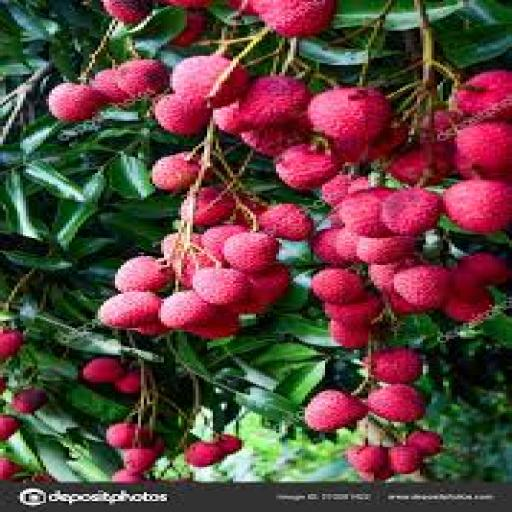lychee: (308, 87, 391, 158), (173, 55, 247, 108), (239, 76, 310, 131), (443, 179, 511, 234), (455, 123, 511, 180), (251, 0, 336, 37), (380, 188, 442, 236), (277, 145, 339, 191), (455, 71, 511, 120), (340, 188, 394, 237), (305, 390, 368, 432), (395, 266, 451, 308), (156, 94, 209, 137), (49, 83, 106, 122), (98, 293, 161, 328), (366, 384, 425, 421), (162, 291, 218, 329), (193, 269, 250, 306), (225, 233, 279, 272), (182, 188, 235, 227), (150, 152, 201, 192), (116, 256, 172, 292), (259, 204, 313, 241), (118, 60, 169, 99), (366, 348, 422, 383), (311, 269, 365, 304), (357, 237, 414, 265), (328, 320, 371, 349), (346, 446, 388, 474), (101, 0, 152, 23), (81, 357, 123, 383), (185, 442, 224, 466), (12, 388, 48, 414), (389, 446, 422, 474), (406, 431, 442, 456), (0, 330, 23, 360), (0, 415, 20, 441)
